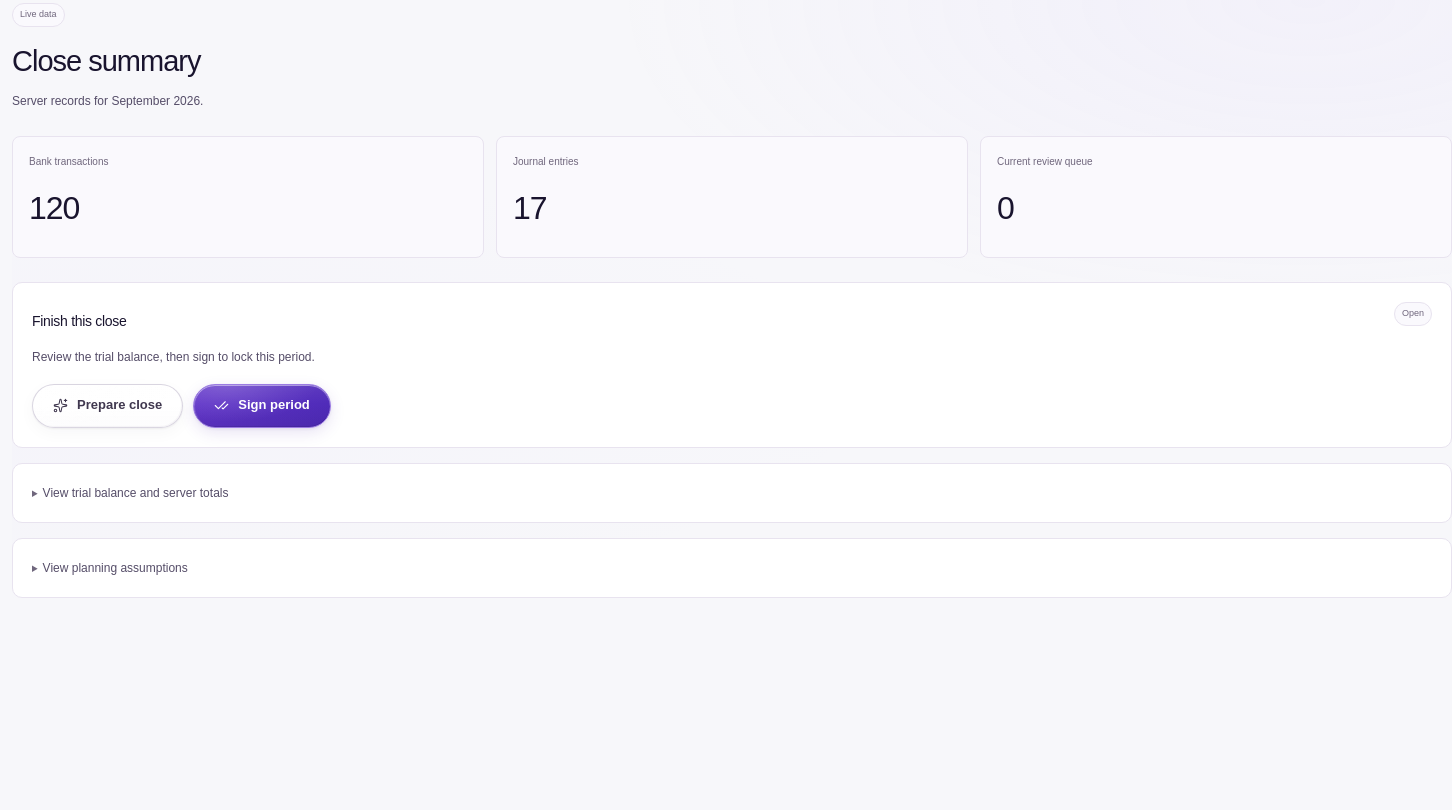
Live drawer capabilities and close summary › awaits sign-off without inventing a signed state or allowing duplicates
Double-click the button "Sign period" at (262, 406), box [193, 384, 331, 428]
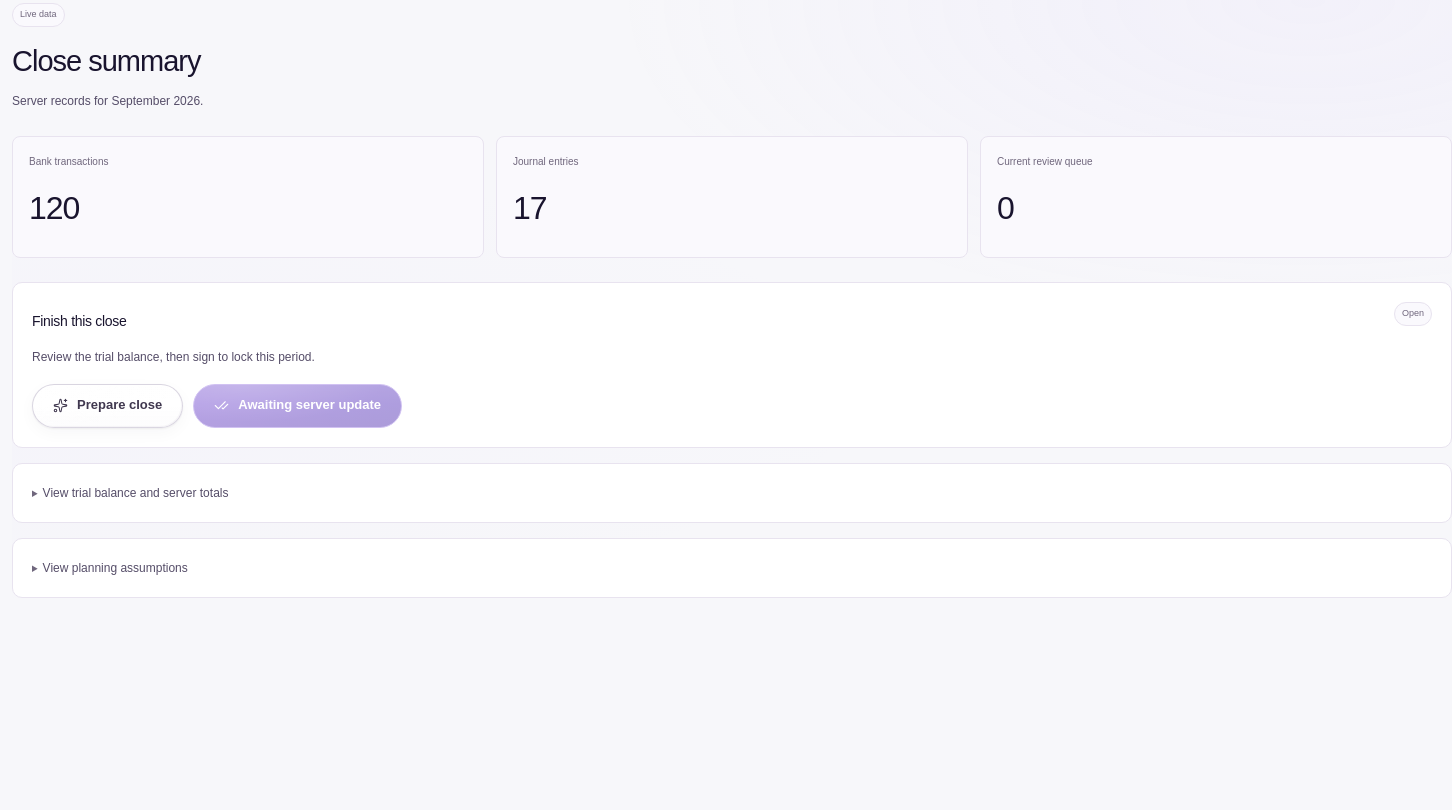
Expected: the button "Awaiting server update" is shown, [193, 384, 402, 428]
